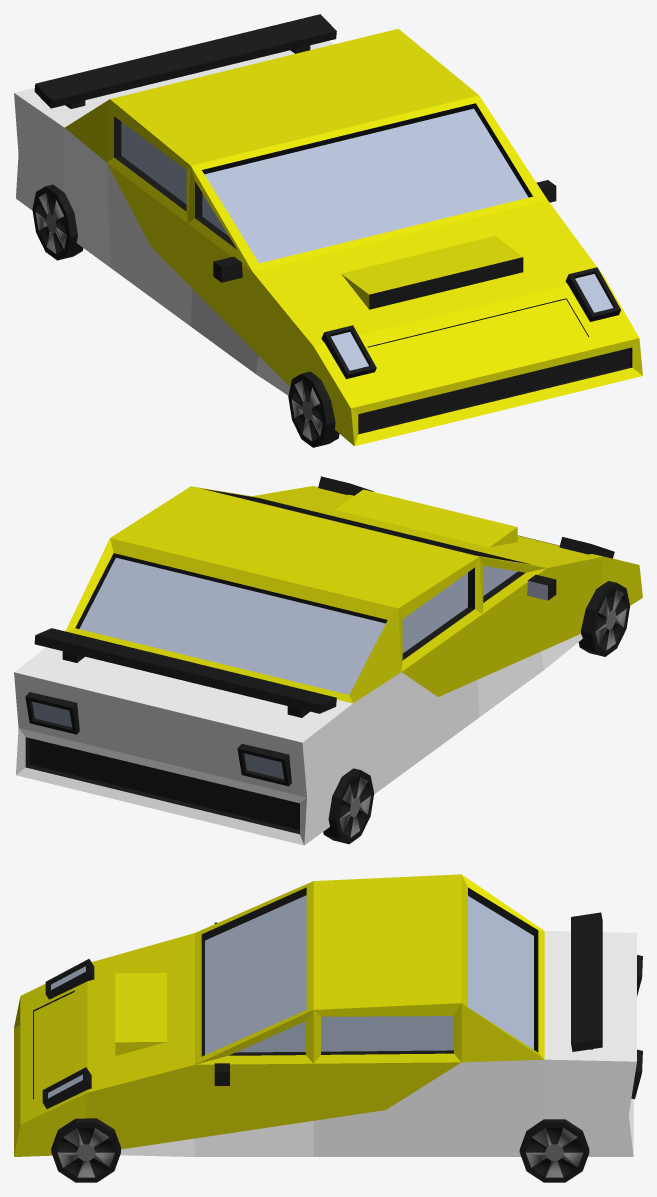
The model's file is Car 8.fbx.
3 renders of one model, top to bottom at view 1: azimuth 30°, elevation 25°; view 2: azimuth 150°, elevation 25°; view 3: azimuth 270°, elevation 25°, orthographic. The views are drawn at different scales.
Visible parts, largest first — view 1: Car, Front Right Tire, Back Right Tire; view 2: Car, Front Right Tire, Back Right Tire; view 3: Car, Front Left Tire, Back Left Tire.
Boxes of the visible parts, left/top/right/bottom form: Car: left=14, top=14, right=642, bottom=446; Front Right Tire: left=288, top=371, right=339, bottom=447; Back Right Tire: left=32, top=184, right=83, bottom=260; Car: left=14, top=476, right=642, bottom=845; Front Right Tire: left=578, top=581, right=629, bottom=656; Back Right Tire: left=323, top=768, right=374, bottom=844; Car: left=14, top=874, right=642, bottom=1156; Front Left Tire: left=51, top=1118, right=120, bottom=1182; Back Left Tire: left=519, top=1119, right=589, bottom=1182.
Bounding box in the file's own units: 232 × 127 × 413.
